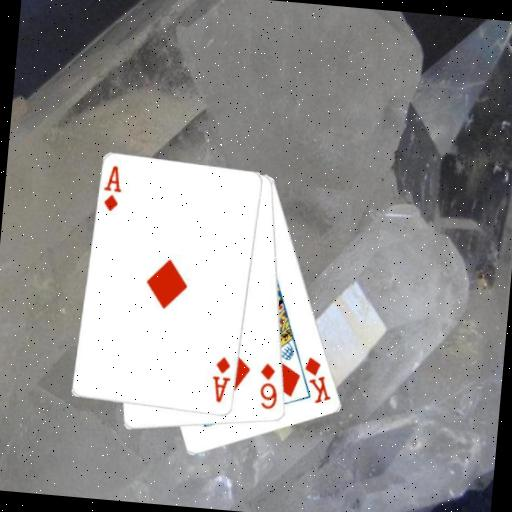6D: (255, 360, 283, 412)
AD: (208, 354, 234, 406), (100, 162, 126, 214)
KD: (299, 353, 337, 407)
